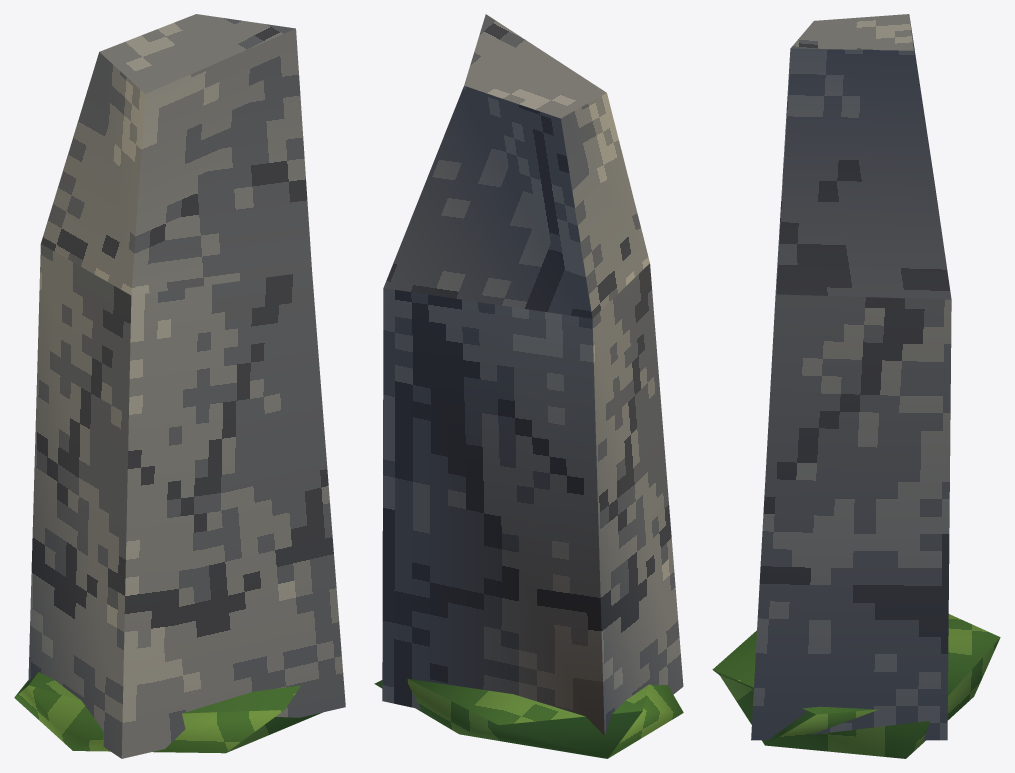
The model's file is mnat.rock__standing.glb.
3 views of the same model, side by side, from view 1: azimuth 30°, elevation 25°; view 2: azimuth 150°, elevation 25°; view 3: azimuth 270°, elevation 25° (orthographic). The views are drawn at different scales.
Parts seen in each view (by area): view 1: kit_rock, kit_moss; view 2: kit_rock, kit_moss; view 3: kit_rock, kit_moss.
Part boxes in pixels (<box>): kit_rock: <box>28,14,345,758</box>; kit_moss: <box>14,672,322,753</box>; kit_rock: <box>382,14,683,735</box>; kit_moss: <box>374,678,683,758</box>; kit_rock: <box>751,14,951,740</box>; kit_moss: <box>712,614,1000,758</box>.
Size of the model in its own units: 1.04 by 2.49 by 0.9323.
Materials: 2 (2 with a texture image).
